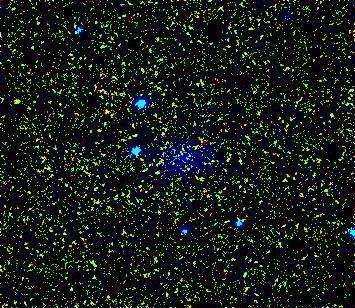star: (3, 85, 33, 115)
